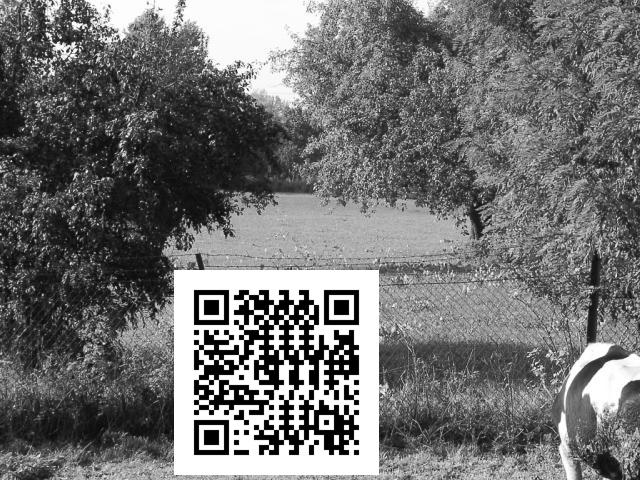qr_code: (174, 270, 378, 475)
